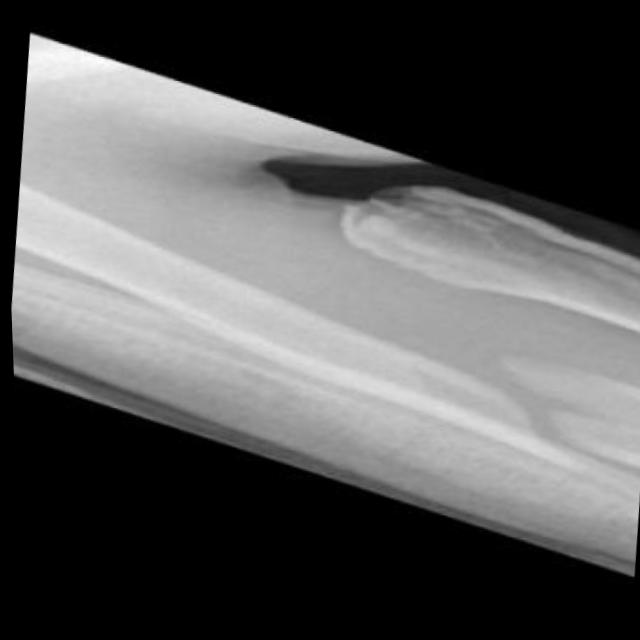fracture: (458, 343, 582, 465)
